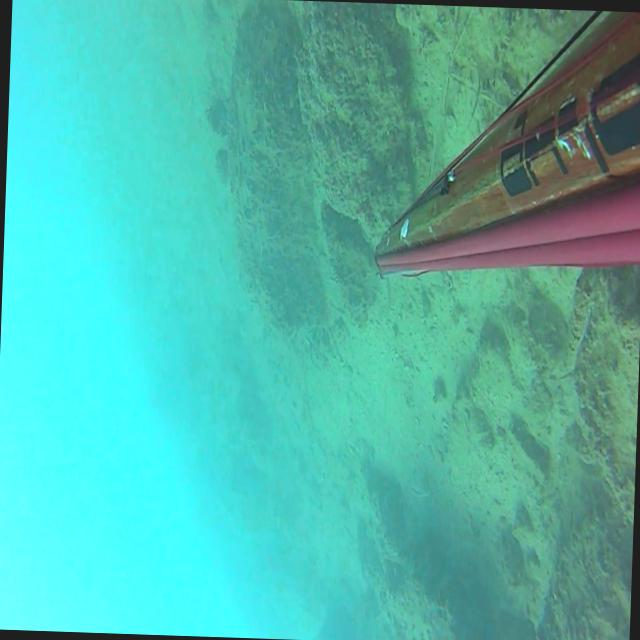Balon Baligi: (409, 484, 428, 497)
